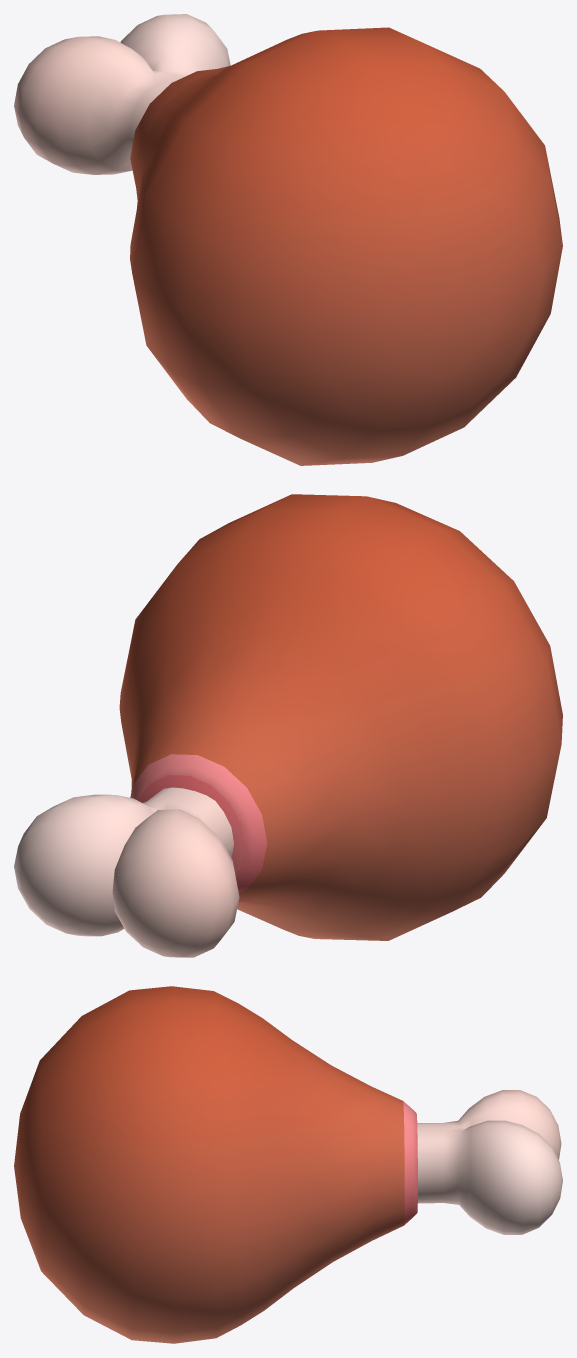
The model's file is Roasted_Chicken_V1_01.fbx.
3 renders of one model, top to bottom at view 1: azimuth 30°, elevation 25°; view 2: azimuth 150°, elevation 25°; view 3: azimuth 270°, elevation 25°, orthographic. The views are drawn at different scales.
Visible parts, largest first — view 1: Roasted_Chicken_V1_01; view 2: Roasted_Chicken_V1_01; view 3: Roasted_Chicken_V1_01.
Part boxes in pixels (x1,y1,x2,y2): Roasted_Chicken_V1_01: (14, 14, 562, 465); Roasted_Chicken_V1_01: (14, 494, 562, 957); Roasted_Chicken_V1_01: (14, 986, 562, 1343).
Size of the model in its own units: 38.54 by 38.55 by 59.13.
